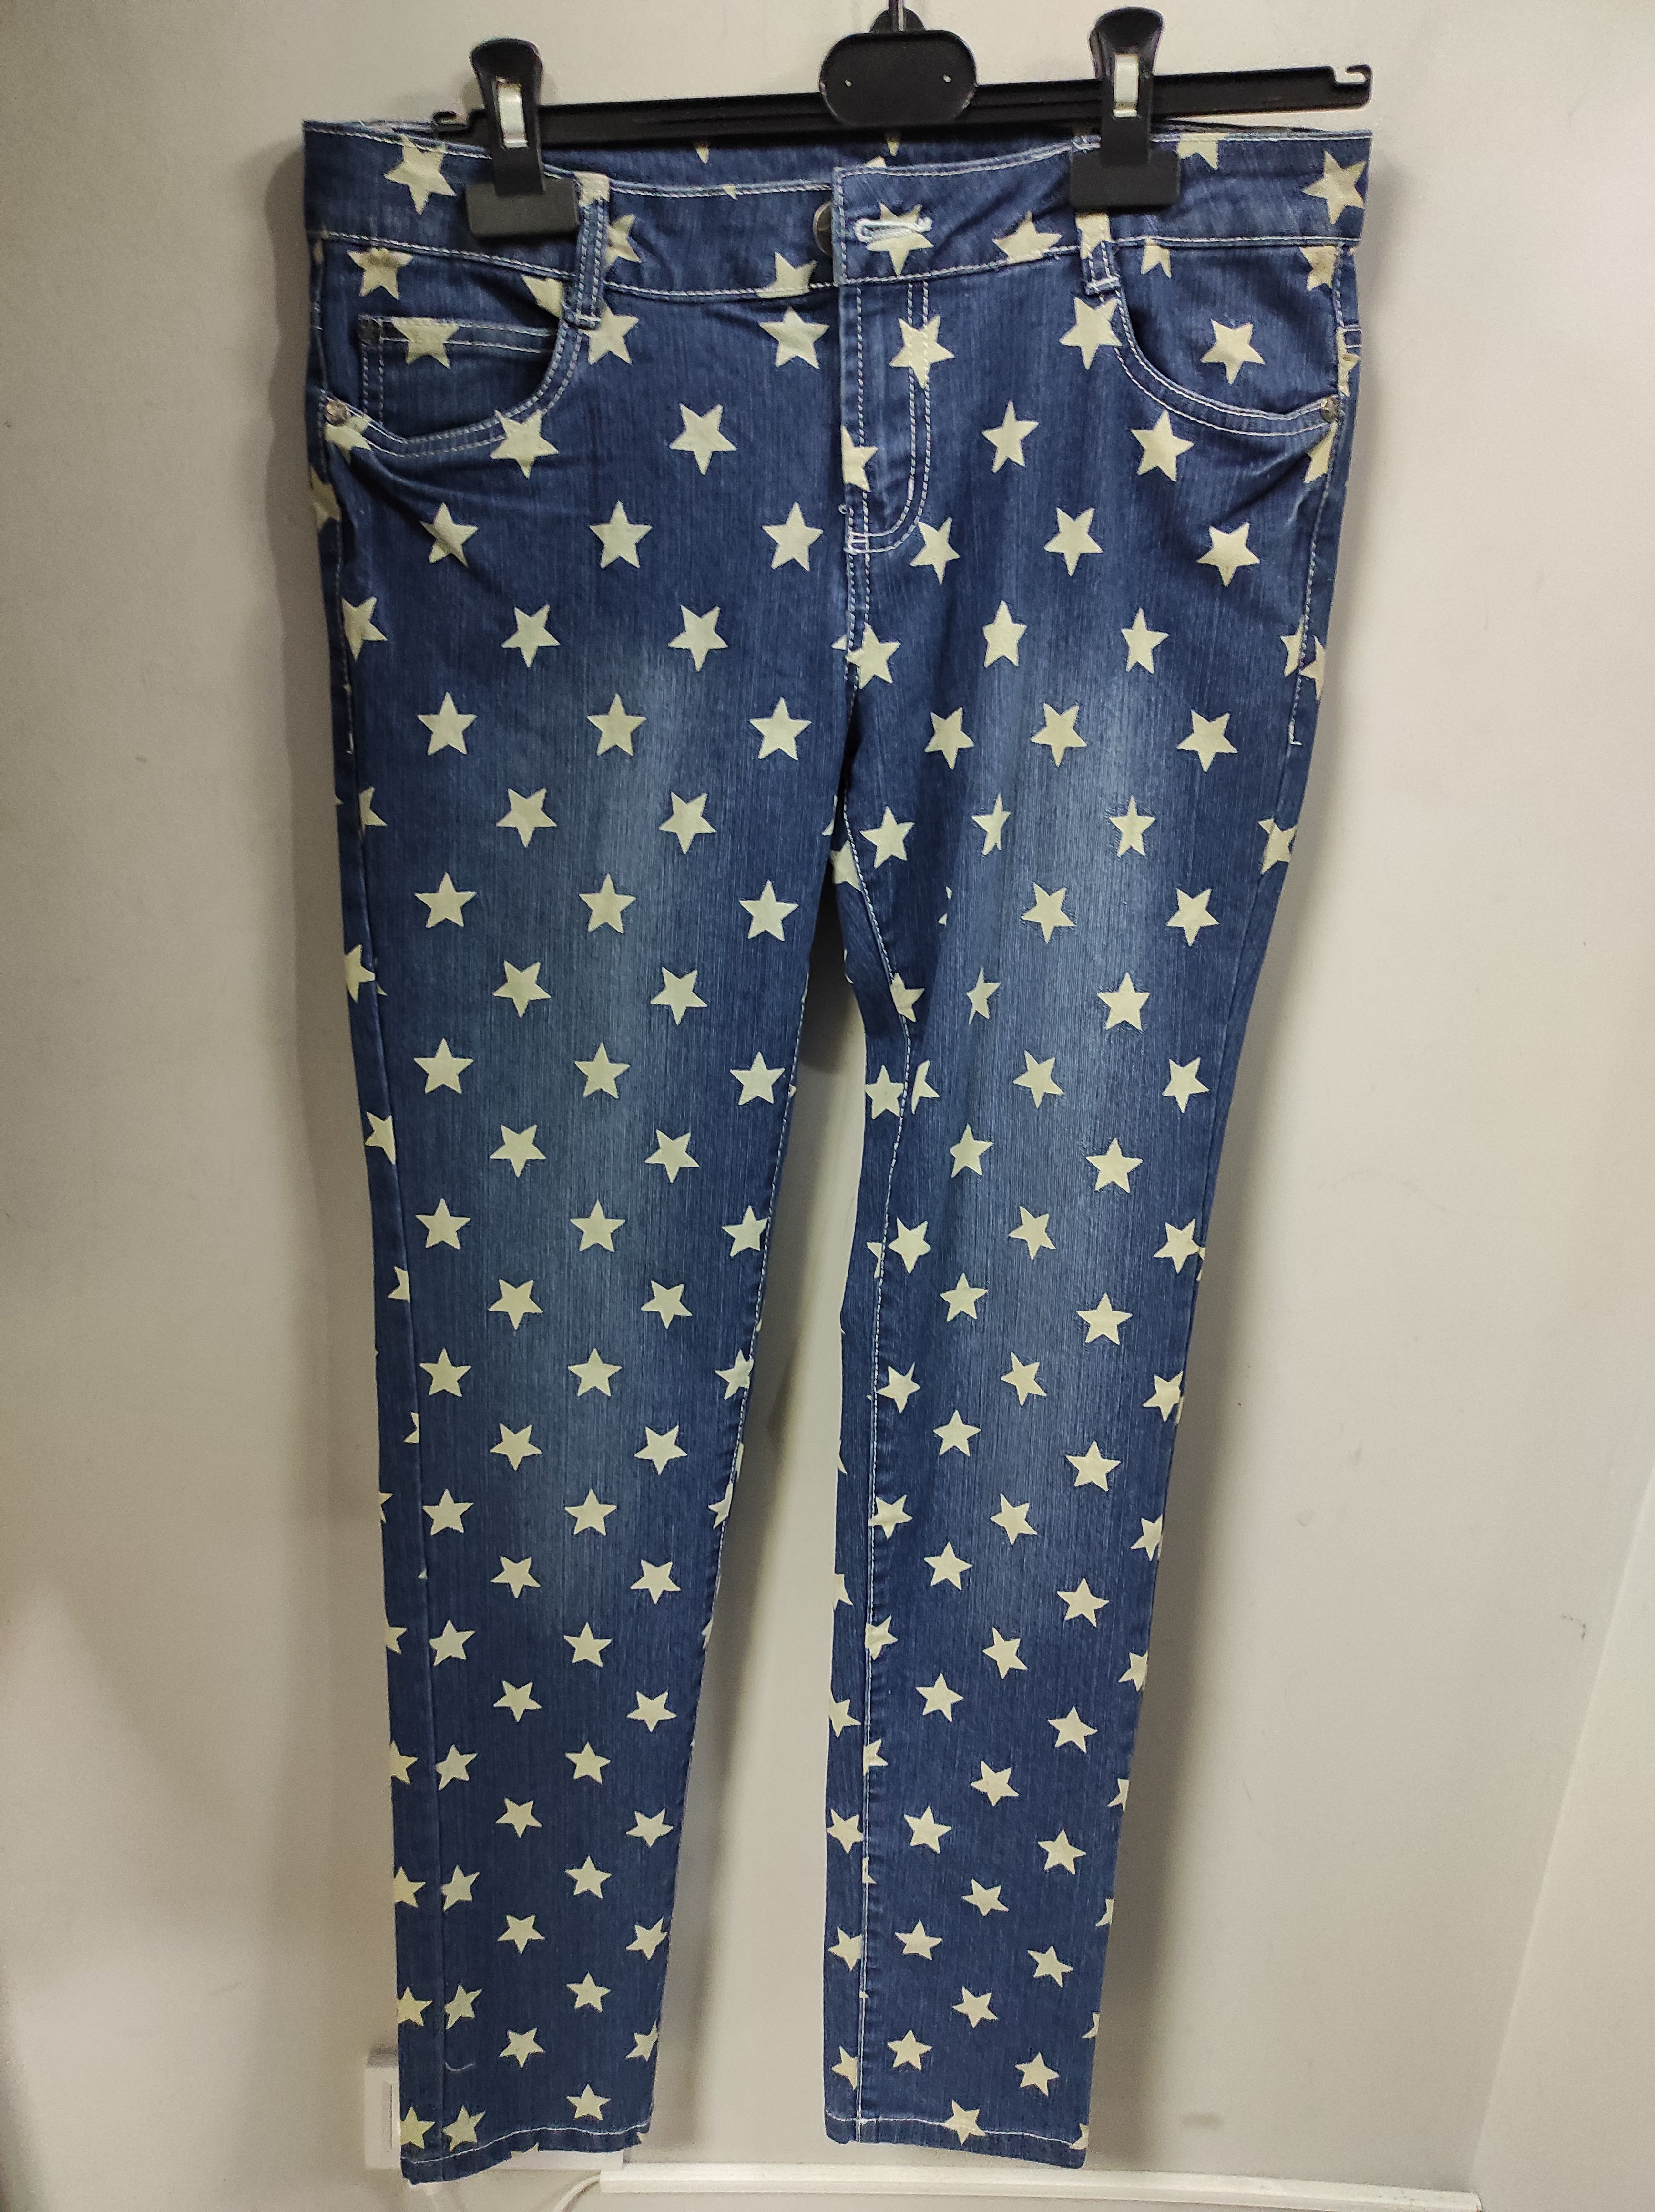clothes: (278, 82, 1389, 2146)
